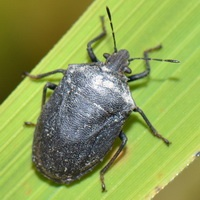insect: (26, 7, 178, 191)
